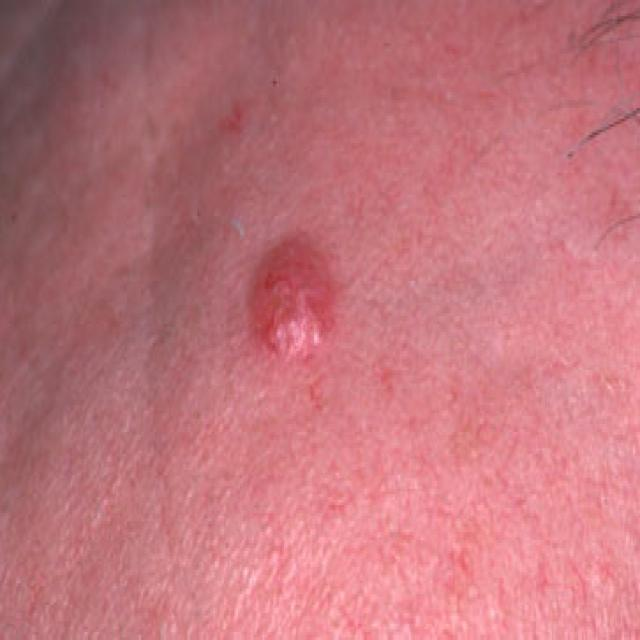Nao cancer: (247, 218, 348, 387)
